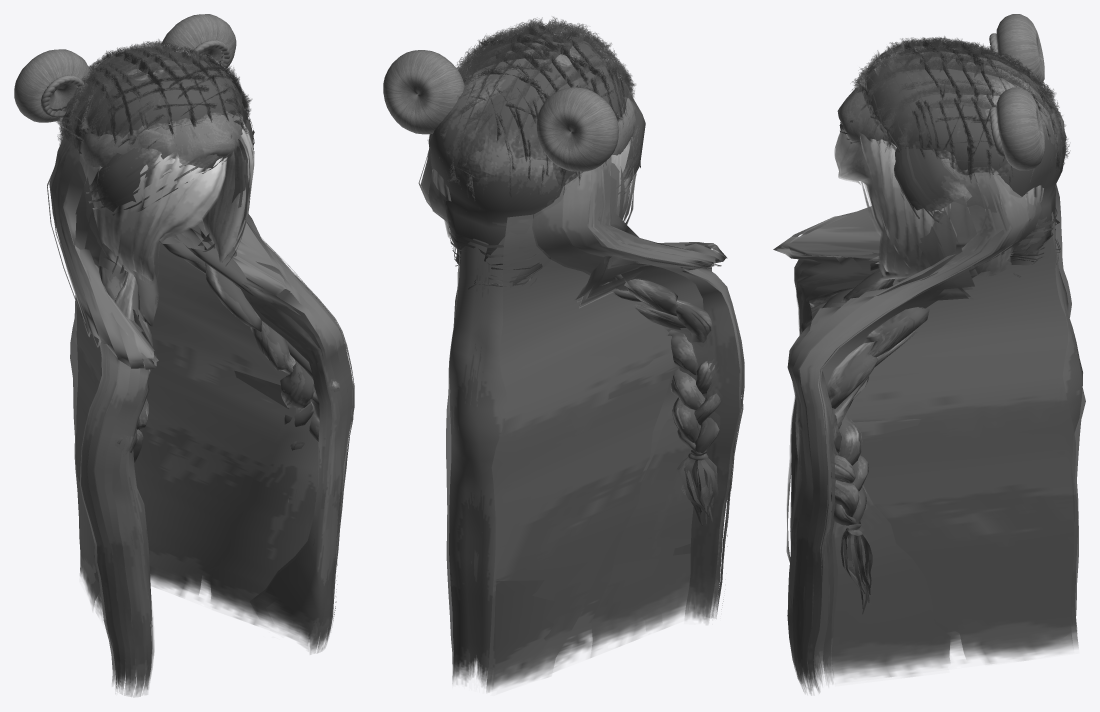
The model's file is female-hair.glb.
The picture shows the model from 3 angles, left to right: view 1: azimuth 30°, elevation 25°; view 2: azimuth 150°, elevation 25°; view 3: azimuth 270°, elevation 25°; orthographic projection. The views are drawn at different scales.
Visible parts, largest first — view 1: female-long, female-braids, female-curls, female-waves, female-buns, female-short; view 2: female-long, female-braids, female-curls, female-buns, female-waves, female-short; view 3: female-long, female-braids, female-curls, female-waves, female-buns, female-short.
Boxes of the visible parts, bbox=[...] form: female-long: bbox=[47, 134, 354, 696]; female-braids: bbox=[79, 48, 340, 548]; female-curls: bbox=[56, 39, 252, 153]; female-waves: bbox=[79, 121, 254, 284]; female-buns: bbox=[14, 14, 236, 122]; female-short: bbox=[80, 65, 243, 168]; female-long: bbox=[418, 148, 744, 692]; female-braids: bbox=[428, 32, 720, 525]; female-curls: bbox=[427, 16, 635, 200]; female-buns: bbox=[383, 50, 618, 171]; female-waves: bbox=[432, 137, 636, 261]; female-short: bbox=[543, 43, 635, 159]; female-long: bbox=[773, 131, 1085, 694]; female-braids: bbox=[798, 49, 1065, 614]; female-curls: bbox=[851, 36, 1070, 186]; female-waves: bbox=[834, 129, 1043, 278]; female-buns: bbox=[989, 14, 1044, 170]; female-short: bbox=[837, 46, 957, 147].
Size of the model in its own units: 0.407 by 0.8262 by 0.3881.
7 materials, 7 textured.
